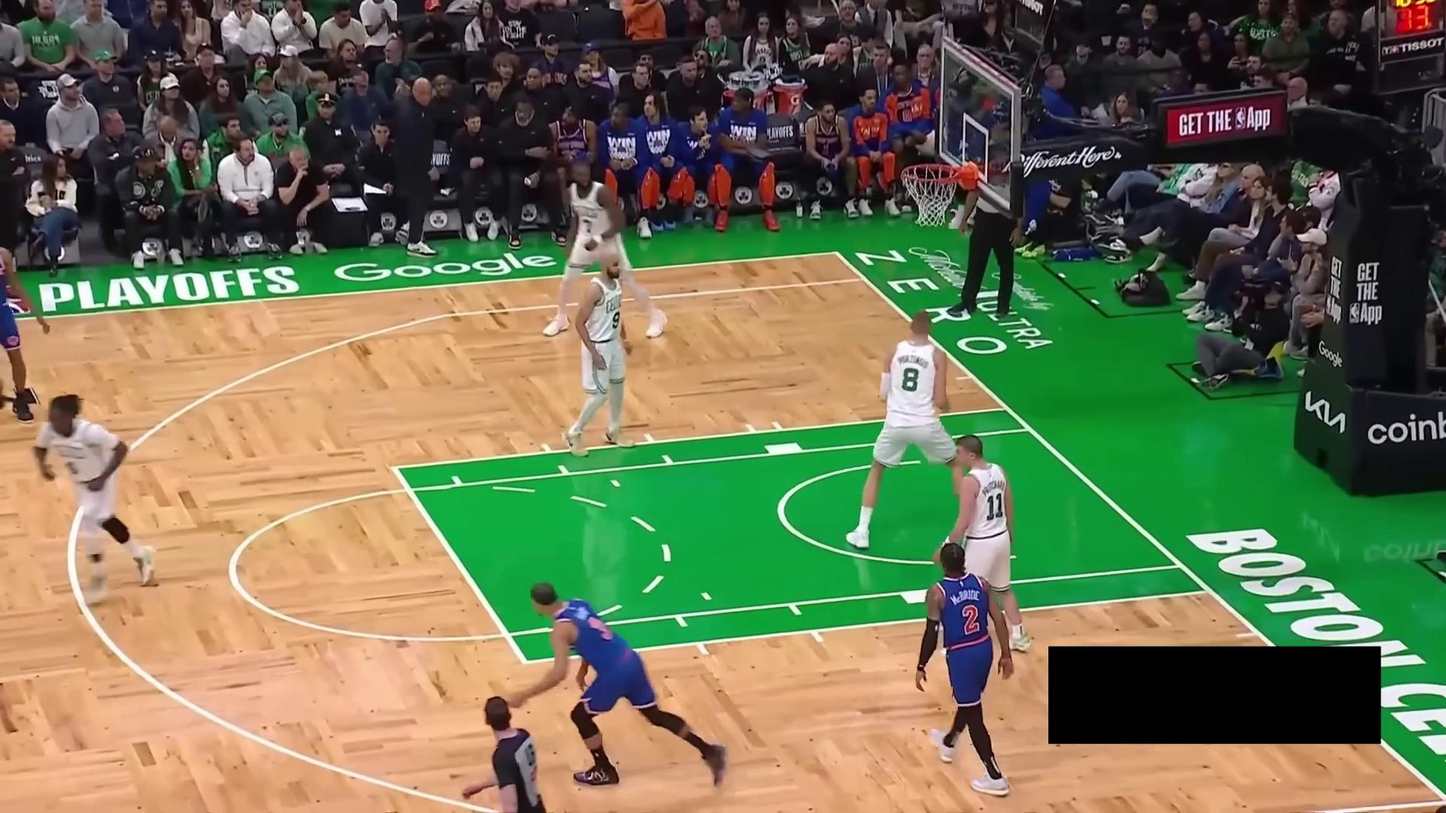number: (901, 367, 922, 394), (960, 604, 979, 633), (986, 492, 1004, 521), (611, 310, 621, 329), (582, 217, 593, 233)
player: (505, 581, 728, 788), (846, 309, 968, 551), (34, 393, 157, 606), (914, 541, 1014, 798), (542, 159, 669, 337), (947, 433, 1030, 653), (563, 260, 630, 458), (0, 233, 52, 422)
referee: (951, 172, 1024, 319), (459, 695, 547, 813)
rim: (903, 163, 967, 184)
